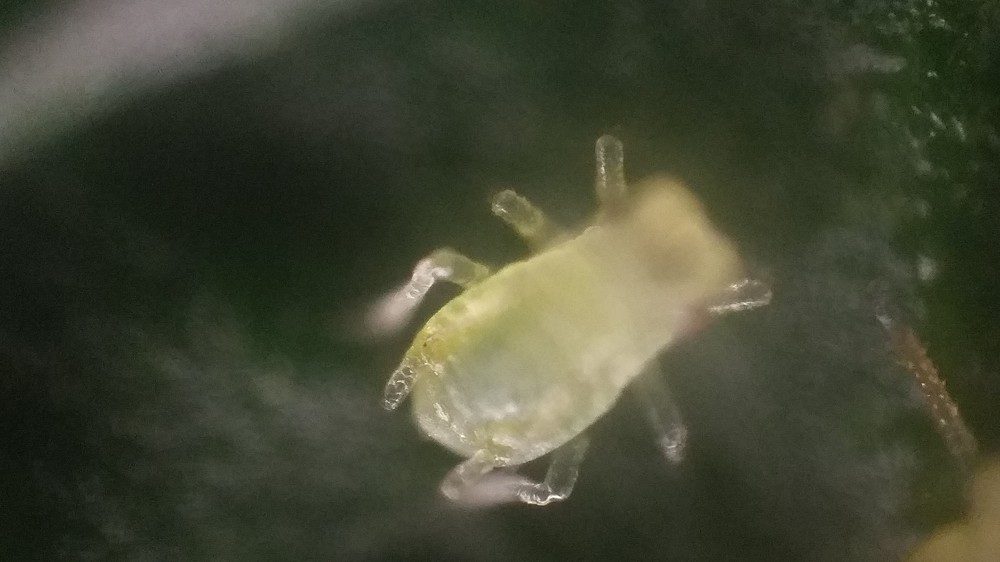Pulgon: (346, 123, 810, 530)
